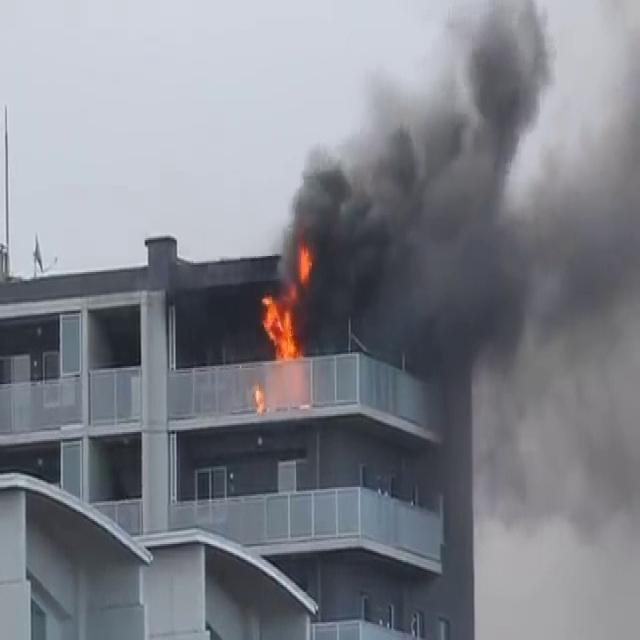Fire: (256, 278, 305, 364)
Smoke: (312, 0, 639, 505)
